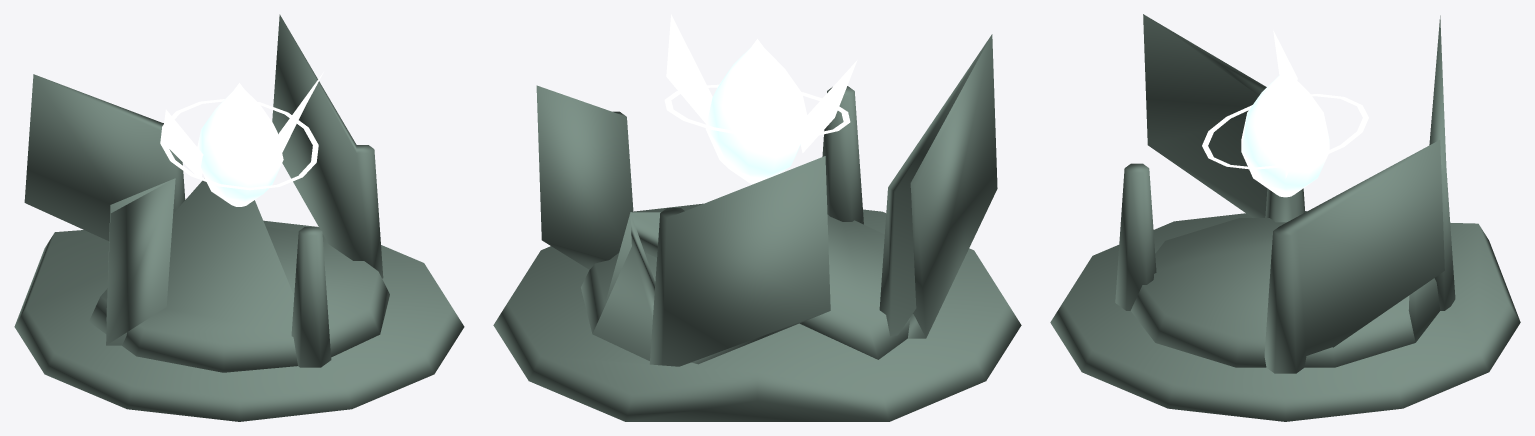
Rendered from Station_Mascotas_Modular.fbx.
3 renders of one model, left to right at view 1: azimuth 30°, elevation 25°; view 2: azimuth 150°, elevation 25°; view 3: azimuth 270°, elevation 25°, orthographic. The views are drawn at different scales.
Visible parts, largest first — view 1: PetNursery_NestDais, PetNursery_Egg, PetNursery_GoldenWings; view 2: PetNursery_NestDais, PetNursery_Egg, PetNursery_GoldenWings; view 3: PetNursery_NestDais, PetNursery_Egg, PetNursery_GoldenWings.
Part boxes in pixels (x1,y1,x2,y2): PetNursery_NestDais: (14,14,464,421); PetNursery_Egg: (197,83,283,206); PetNursery_GoldenWings: (160,72,323,190); PetNursery_NestDais: (493,34,1021,421); PetNursery_Egg: (705,39,806,184); PetNursery_GoldenWings: (664,14,857,152); PetNursery_NestDais: (1050,14,1520,421); PetNursery_Egg: (1241,67,1329,197); PetNursery_GoldenWings: (1202,30,1368,178).
Size of the model in its own units: 7.6 by 4.55 by 7.6.
